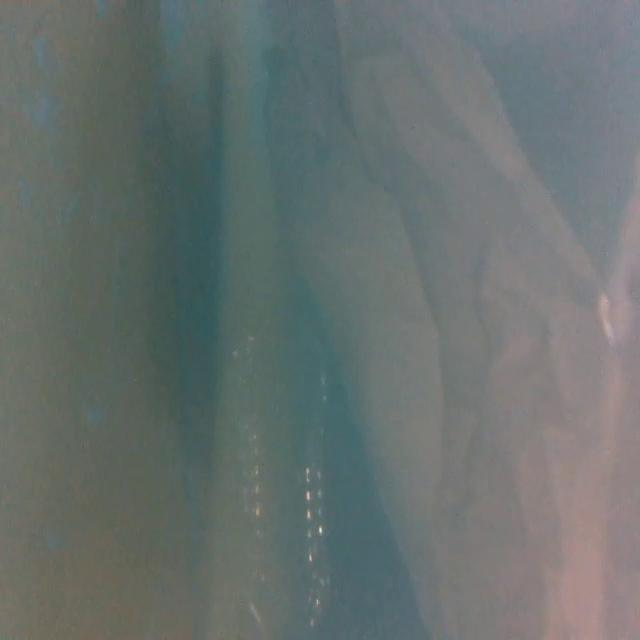plastic bags: (274, 1, 640, 640)
plastic bottle: (225, 317, 330, 640)
